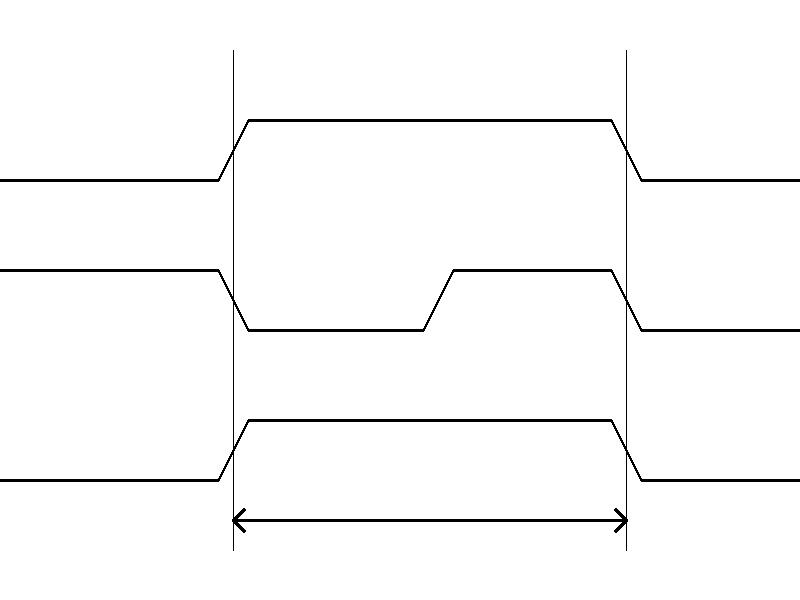double_arrow: (233, 505, 626, 535)
